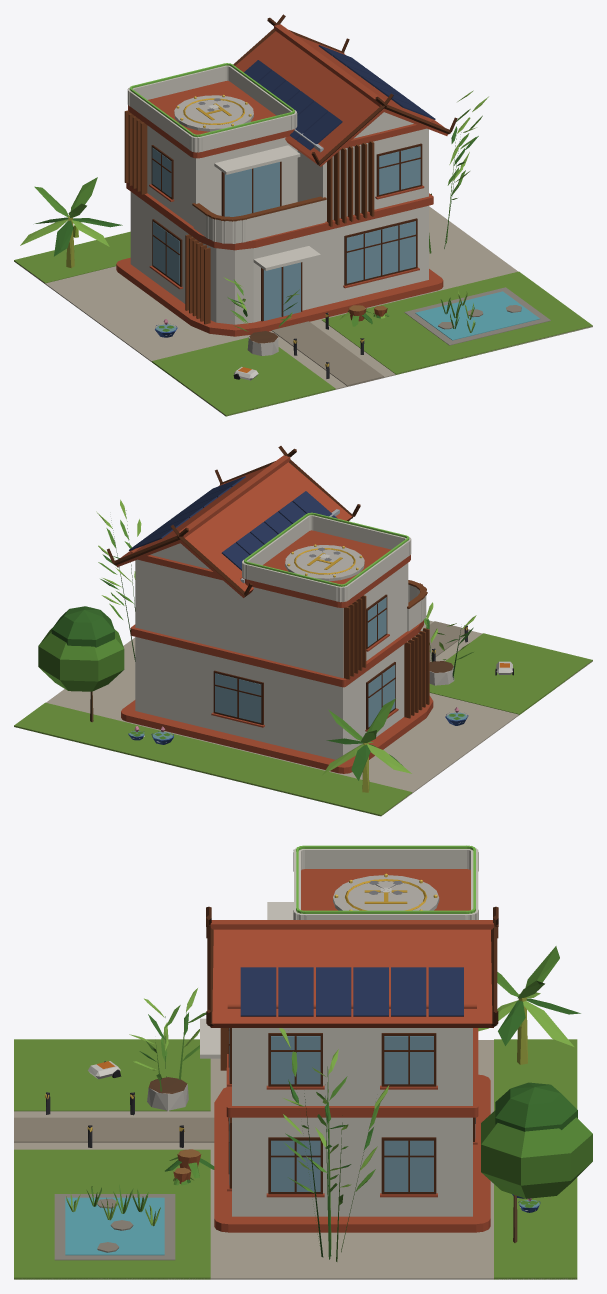
Rendered from home_1.glb.
3 views of the same model, one above another, from view 1: azimuth 30°, elevation 25°; view 2: azimuth 150°, elevation 25°; view 3: azimuth 270°, elevation 25° (orthographic). The views are drawn at different scales.
Parts seen in each view (by area): view 1: body, windows; view 2: body, windows; view 3: body, windows.
Boxes of the visible parts, bbox=[...] form: body: bbox=[14, 14, 592, 416]; windows: bbox=[129, 63, 364, 366]; body: bbox=[14, 446, 592, 816]; windows: bbox=[244, 512, 467, 653]; body: bbox=[14, 848, 592, 1279]; windows: bbox=[45, 845, 475, 1131].
Size of the model in its own units: 17.04 by 8.99 by 16.34.
